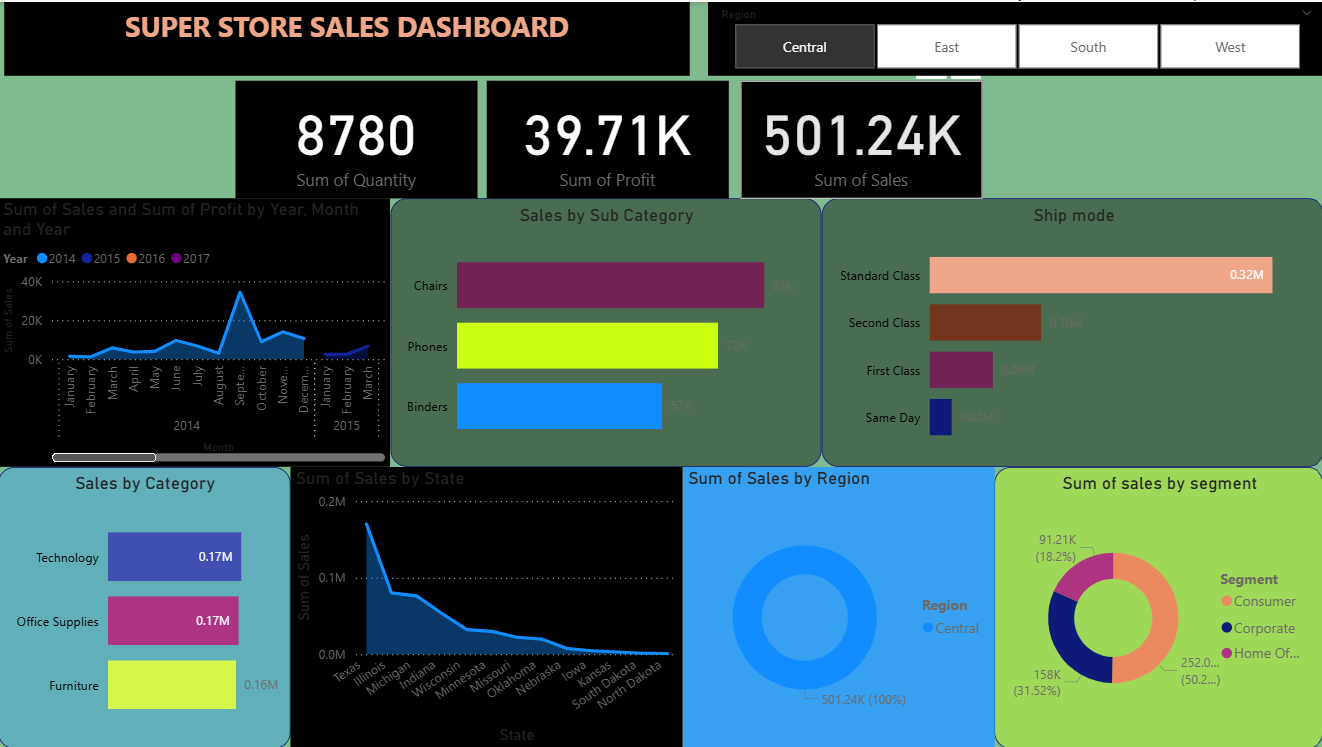

The page's visual inventory and layout, read from the dashboard file:
{"tool":"powerbi","page":{"name":"DASHBOARD","canvas":[1280,720],"ordinal":10},"visuals":[{"type":"clusteredBarChart","title":" Sales by Category","fields":{"Category":["Orders.Category"],"Y":["Sum(Orders.Sales)"]},"box":[0,448.7,282.7,271.7],"z":0},{"type":"clusteredBarChart","title":" Sales by Sub Category","fields":{"Category":["Orders.Sub-Category"],"Y":["Sum(Orders.Sales)"]},"box":[378.7,189.4,415.8,259.3],"z":1000},{"type":"clusteredBarChart","title":"Ship mode","fields":{"Category":["Orders.Ship Mode"],"Y":["Sum(Orders.Sales)"]},"box":[794.5,189.4,485.8,259.3],"z":2000},{"type":"stackedAreaChart","fields":{"Y":["Sum(Orders.Sales)"],"Series":["Orders.Order Date.Variation.Date Hierarchy.Year"],"Category":["Orders.Order Date.Variation.Date Hierarchy.Year","Orders.Order Date.Variation.Date Hierarchy.Month"]},"box":[0,189.4,378.7,259.3],"z":3000},{"type":"stackedAreaChart","fields":{"Y":["Sum(Orders.Sales)"],"Category":["Orders.State"]},"box":[282.7,448.7,378.7,271.7],"z":4000},{"type":"donutChart","title":"Sum of sales by segment","fields":{"Category":["Orders.Segment"],"Y":["Sum(Orders.Sales)"]},"box":[961.9,448.7,318.4,271.7],"z":5000},{"type":"donutChart","fields":{"Y":["Sum(Orders.Sales)"],"Category":["Orders.Region"]},"box":[661.4,448.7,300.5,271.7],"z":6000},{"type":"card","fields":{"Values":["Sum(Orders.Quantity)"]},"box":[229.2,75.5,233.3,113.9],"z":7000},{"type":"card","fields":{"Values":["Sum(Orders.Profit)"]},"box":[472,75.5,233.3,113.9],"z":8000},{"type":"card","fields":{"Values":["Sum(Orders.Sales)"]},"box":[716.3,75.5,233.3,113.9],"z":9000},{"type":"slicer","fields":{"Values":["Orders.Region"]},"box":[684.7,0,595.5,71.4],"z":10000},{"type":"textbox","box":[5.5,0,661.4,71.4],"z":11000}]}

Visuals, with their boxes in screenshot pixels (x1, y1, x2, y2), scaled from the page's 1280x720 canvas onto the 1322x747 screenshot:
" Sales by Category" clusteredBarChart: bbox=(0, 466, 292, 746)
" Sales by Sub Category" clusteredBarChart: bbox=(391, 197, 821, 466)
"Ship mode" clusteredBarChart: bbox=(821, 197, 1321, 466)
stackedAreaChart - Sum(Orders.Sales) x Orders.Order Date.Variation.Date Hierarchy.Year: bbox=(0, 197, 391, 466)
stackedAreaChart - Sum(Orders.Sales) x Orders.State: bbox=(292, 466, 683, 746)
"Sum of sales by segment" donutChart: bbox=(993, 466, 1321, 746)
donutChart - Sum(Orders.Sales) x Orders.Region: bbox=(683, 466, 993, 746)
card - Sum(Orders.Quantity): bbox=(237, 78, 478, 197)
card - Sum(Orders.Profit): bbox=(487, 78, 728, 197)
card - Sum(Orders.Sales): bbox=(740, 78, 981, 197)
slicer - Orders.Region: bbox=(707, 0, 1321, 74)
textbox: bbox=(6, 0, 689, 74)
